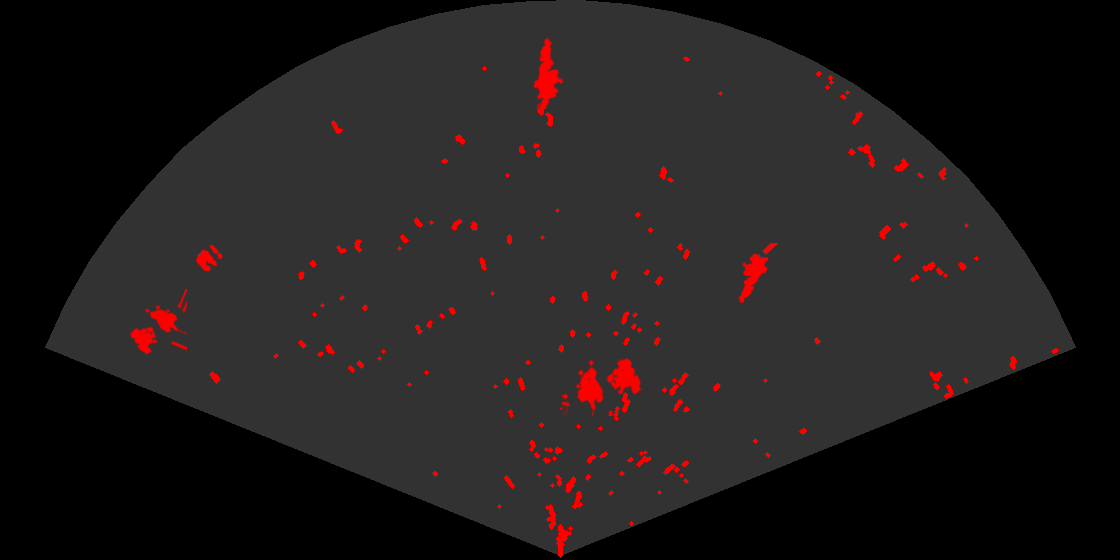ball: (194, 243, 224, 273)
cage: (562, 357, 643, 416), (129, 289, 187, 356)
frogman: (737, 243, 780, 305), (532, 36, 565, 109)
